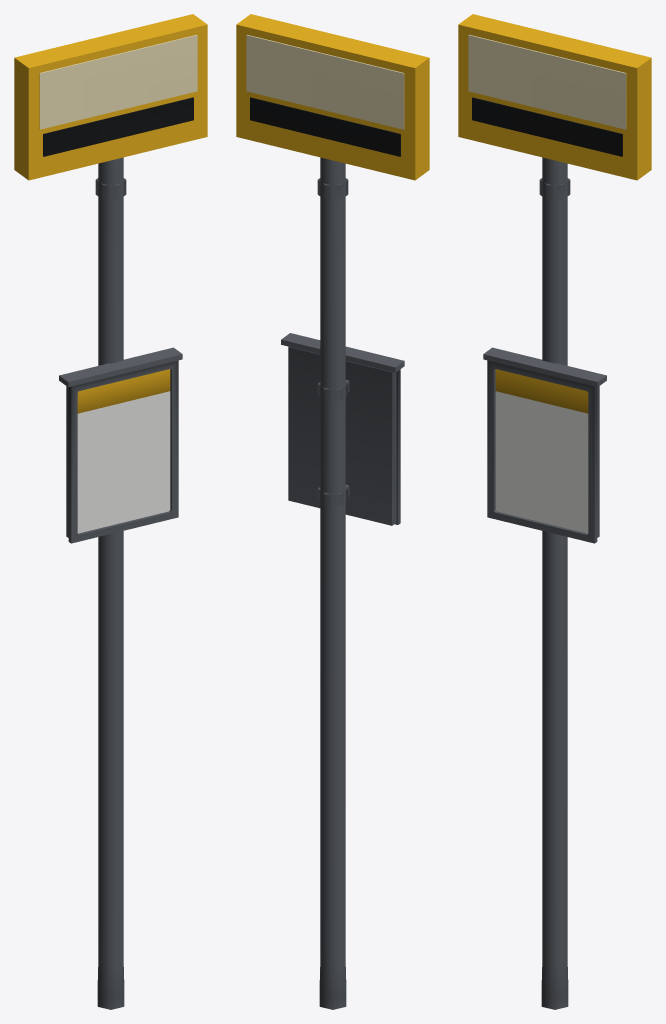
File: taxiSign.far.glb
The picture shows the model from 3 angles, left to right: view 1: azimuth 30°, elevation 25°; view 2: azimuth 150°, elevation 25°; view 3: azimuth 330°, elevation 25°; orthographic projection.
Parts seen in each view (by area): view 1: taxiSign; view 2: taxiSign; view 3: taxiSign.
Part boxes in pixels (x1,y1,x2,y2): taxiSign: (14,14,207,1009); taxiSign: (236,14,429,1009); taxiSign: (458,14,651,1009).
Size of the model in its own units: 0.5 by 2.57 by 0.1082.
